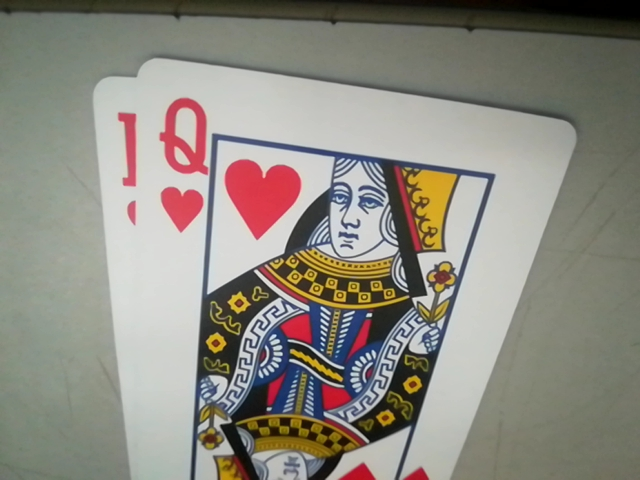hx q: (149, 95, 211, 233)
